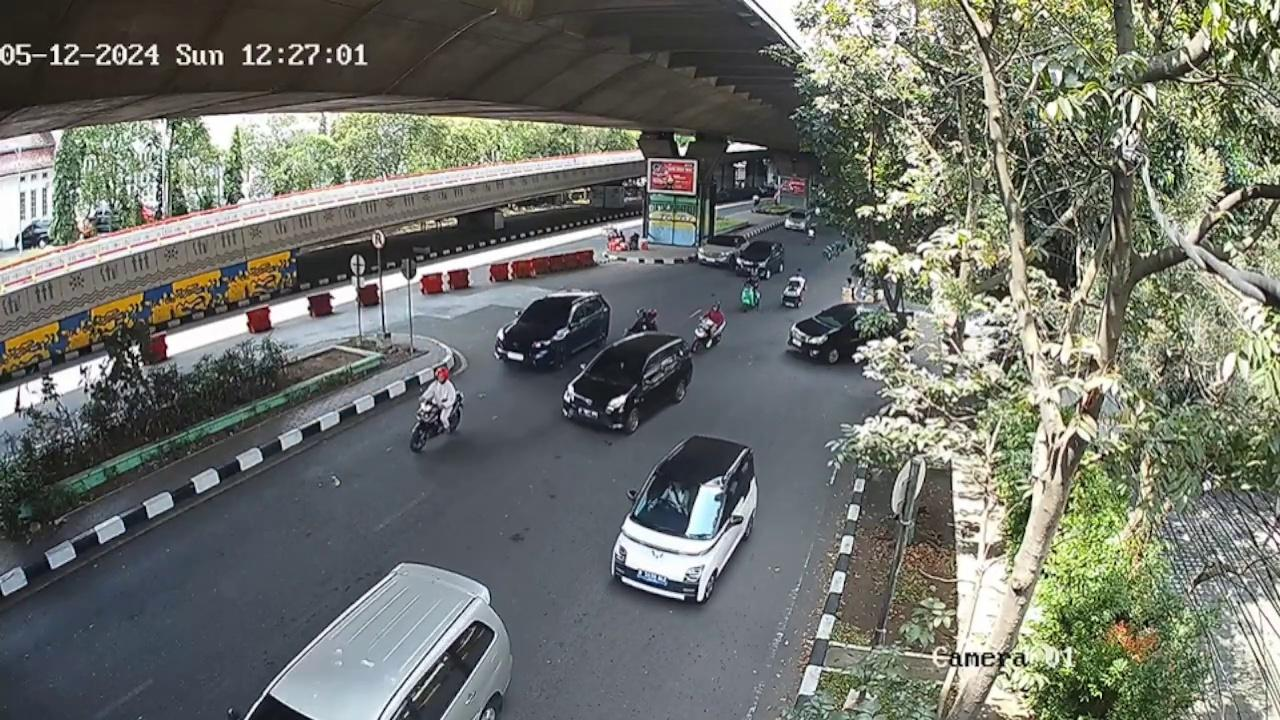pakai: (663, 482, 687, 515)
windshield: (638, 471, 719, 539), (588, 345, 651, 386), (521, 298, 574, 329)
